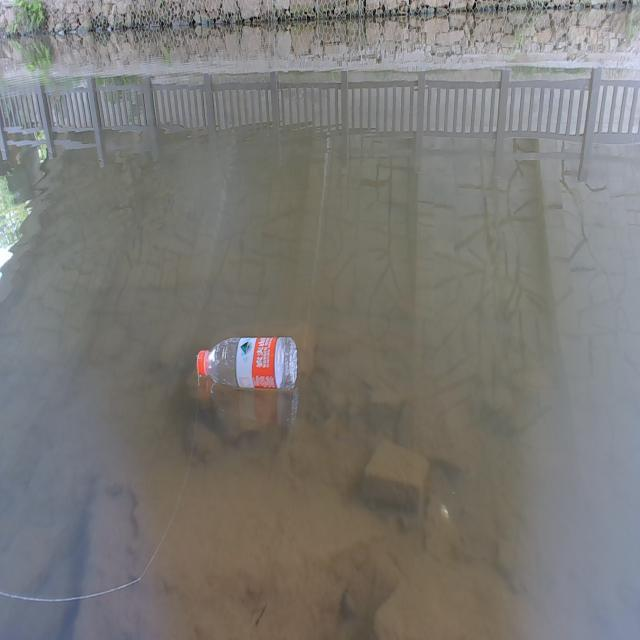garbage: (195, 334, 297, 391)
